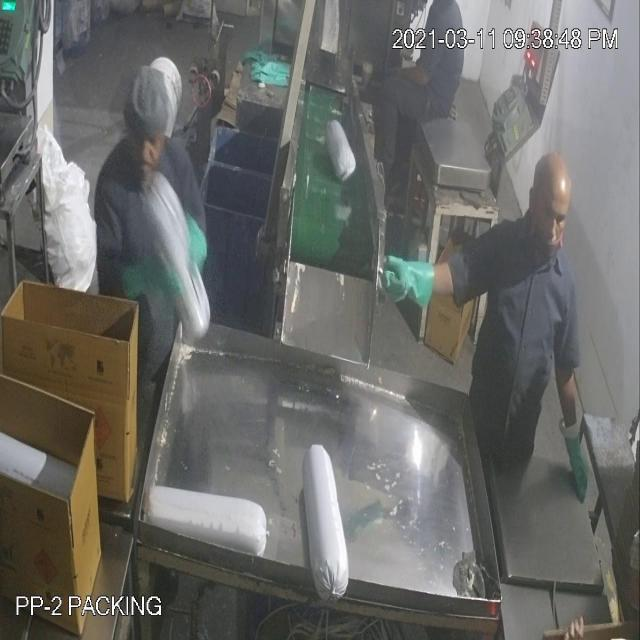Gloves: (48, 78, 573, 455)
